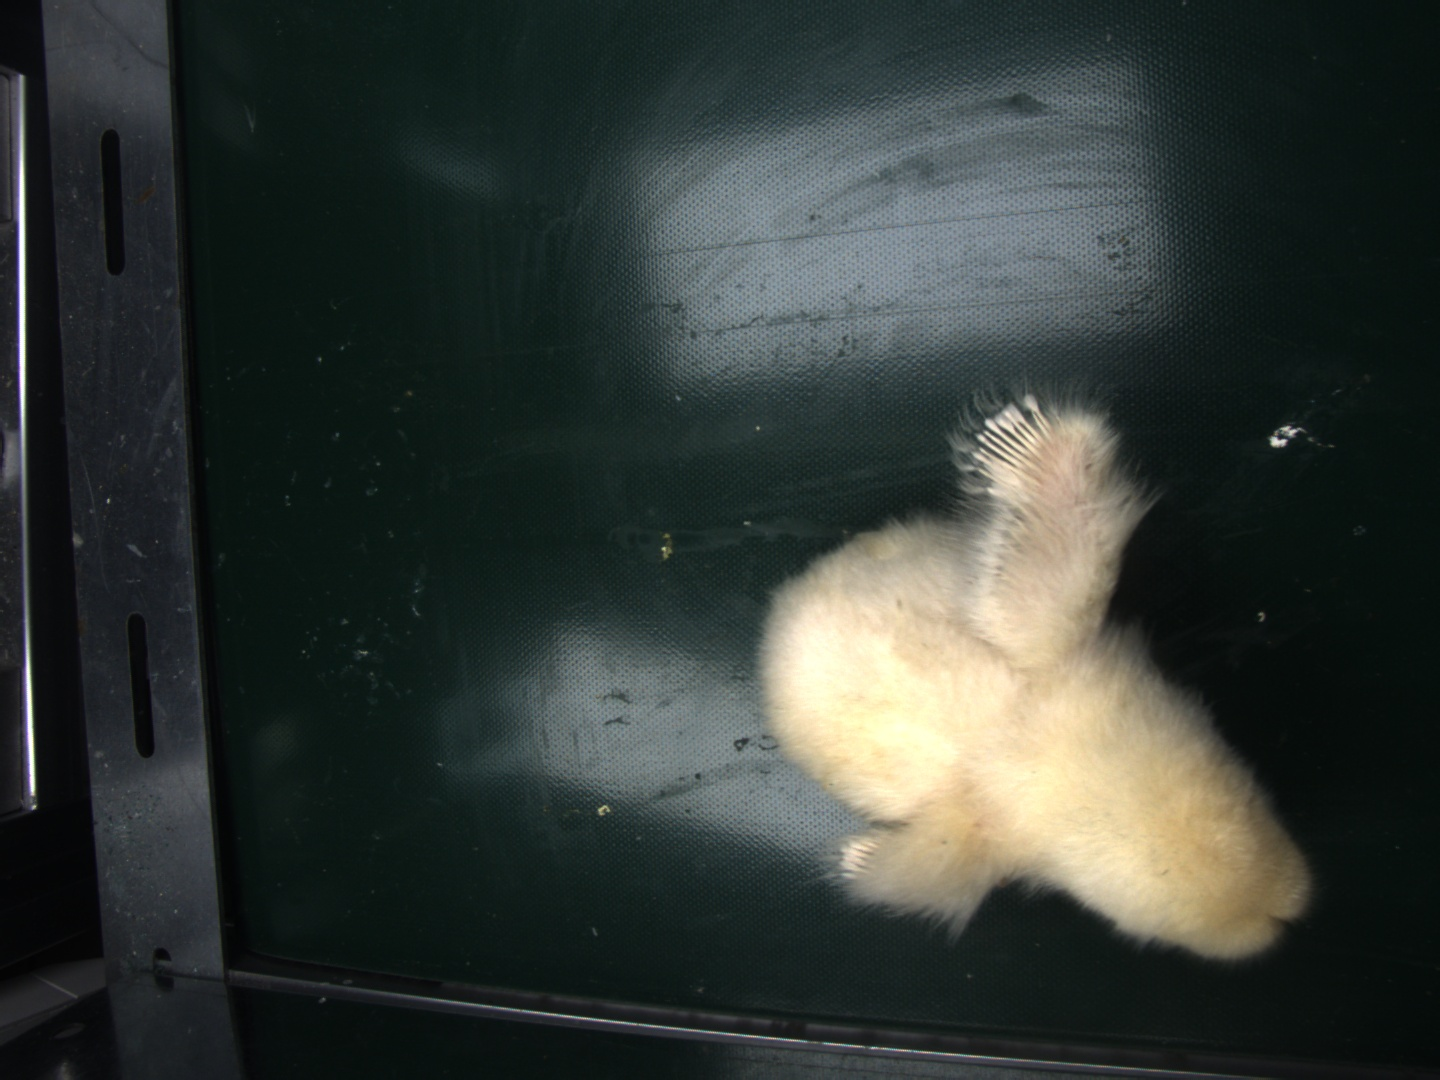male: (968, 388, 1056, 481)
